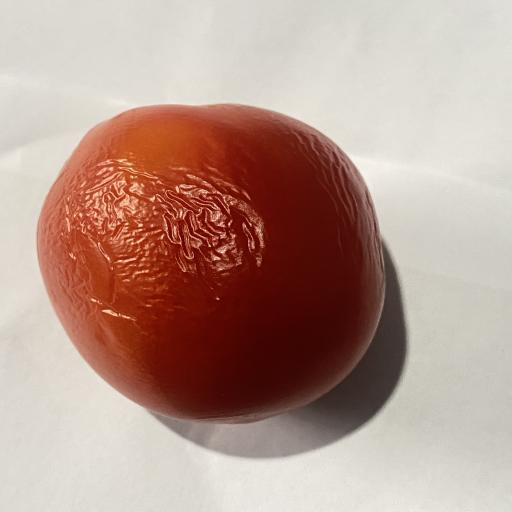spoiled: (37, 104, 385, 423)
